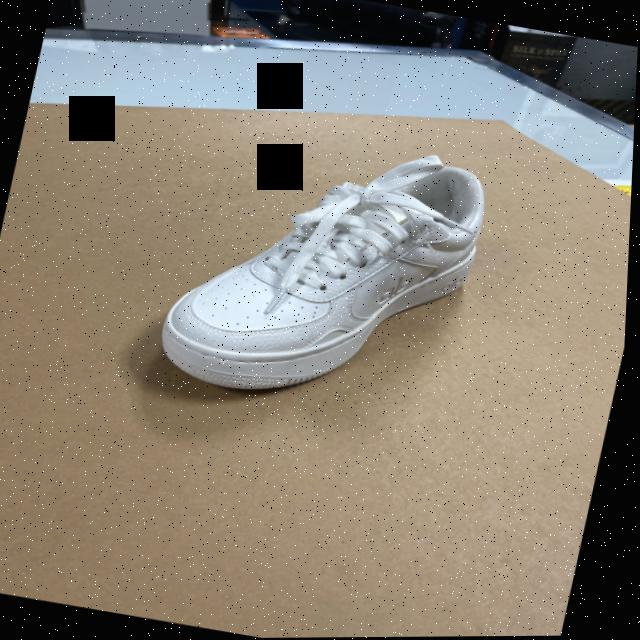shoes: (150, 113, 500, 430)
